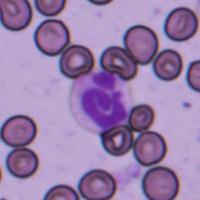N: (69, 68, 133, 134)
